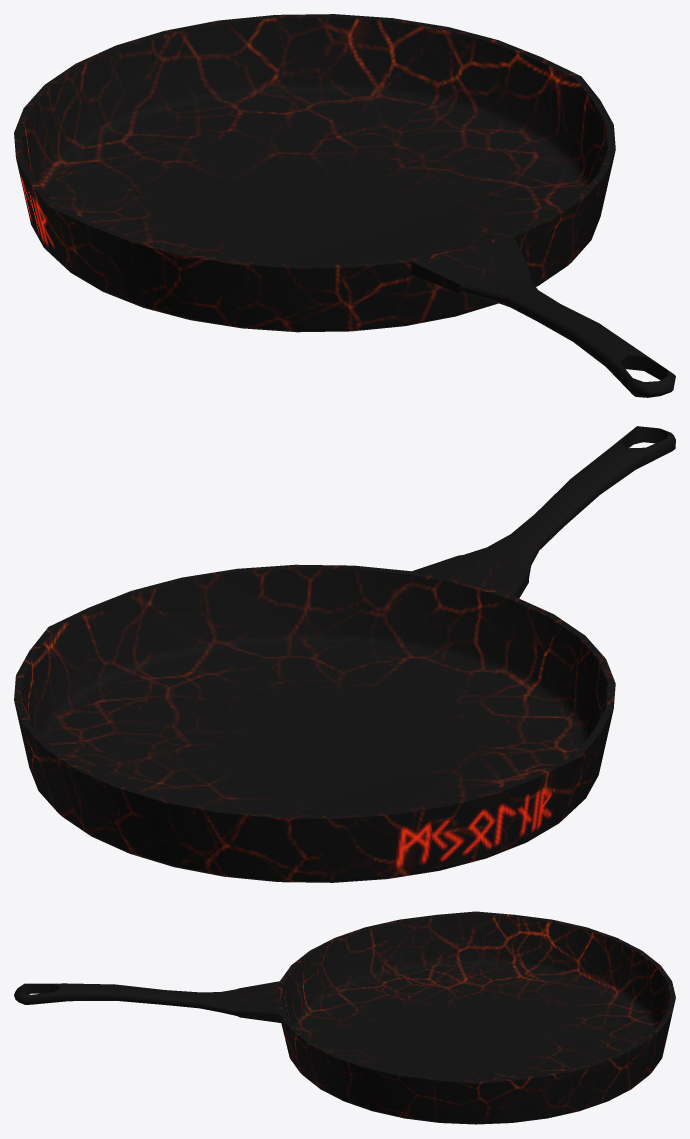
The model's file is Mjölnir skillet.fbx.
The picture shows the model from 3 angles, top to bottom: view 1: azimuth 30°, elevation 25°; view 2: azimuth 150°, elevation 25°; view 3: azimuth 270°, elevation 25°; orthographic projection. The views are drawn at different scales.
Visible parts, largest first — view 1: Pan; view 2: Pan; view 3: Pan.
Boxes of the visible parts, bbox=[...] form: Pan: bbox=[14, 14, 675, 397]; Pan: bbox=[14, 426, 675, 882]; Pan: bbox=[14, 911, 675, 1124].
Size of the model in its own units: 0.3089 by 0.0483 by 0.5011.
Materials: 1 (1 with a texture image).
